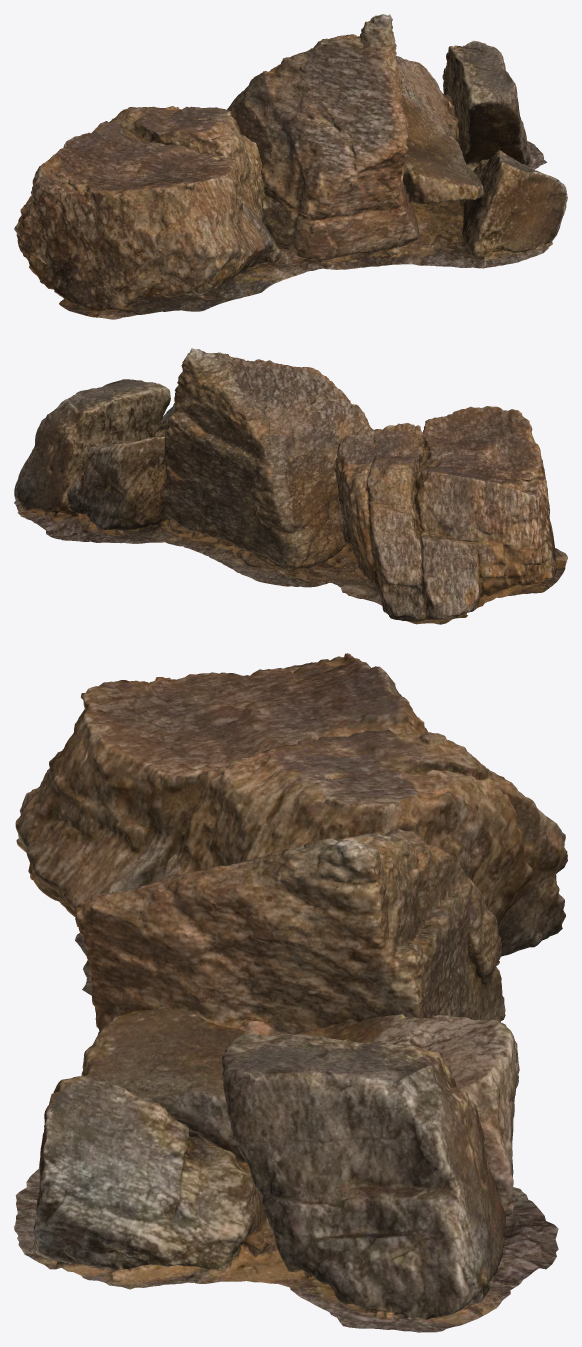
Rendered from namaqualand_boulder_02_2k.glb.
3 views of the same model, one above another, from view 1: azimuth 30°, elevation 25°; view 2: azimuth 150°, elevation 25°; view 3: azimuth 270°, elevation 25° (orthographic). The views are drawn at different scales.
Visible parts, largest first — view 1: boulder_02; view 2: boulder_02; view 3: boulder_02.
Part boxes in pixels (bbox=[...]): boulder_02: bbox=[14, 14, 567, 319]; boulder_02: bbox=[14, 348, 567, 624]; boulder_02: bbox=[14, 653, 567, 1332].
Bounding box in the file's own units: 2.53 × 0.8827 × 1.23.
Materials: 1 (1 with a texture image).
